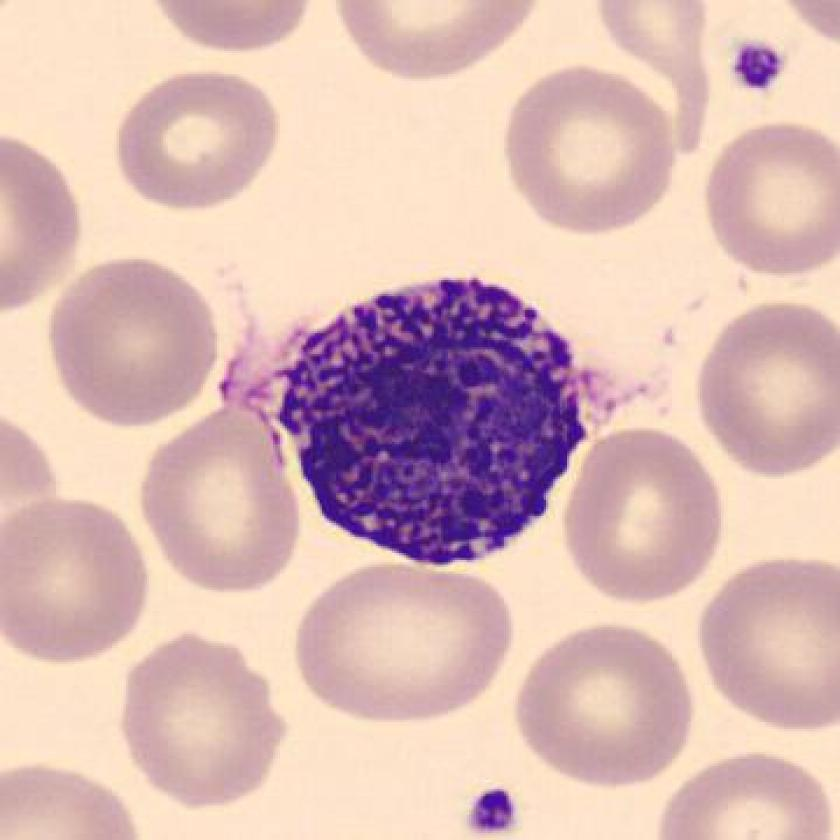basophil: (272, 253, 601, 582)
